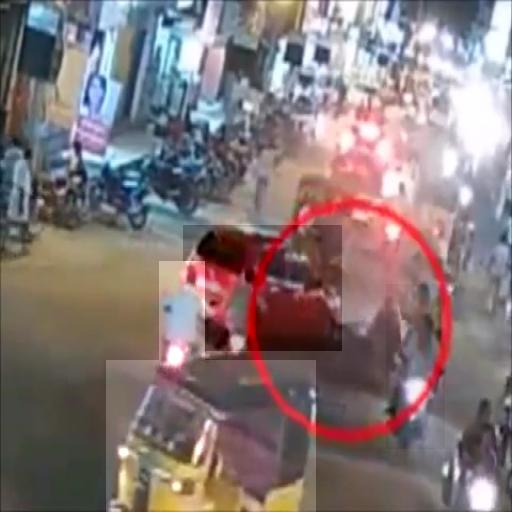小汽车: (106, 360, 316, 512), (183, 225, 342, 351)
自行车: (386, 284, 445, 449), (160, 262, 206, 372)
